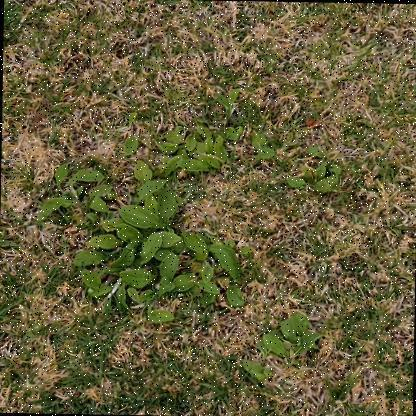Weeds: (34, 84, 256, 325), (250, 129, 342, 194), (241, 311, 323, 380)
